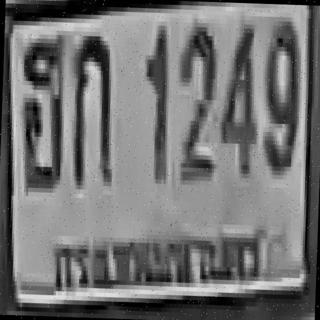A01: (68, 33, 114, 184)
A44: (18, 34, 65, 188)
N01: (141, 23, 169, 182)
N02: (175, 20, 216, 179)
N04: (218, 19, 258, 174)
N09: (262, 17, 300, 171)
P04: (42, 217, 266, 298)
